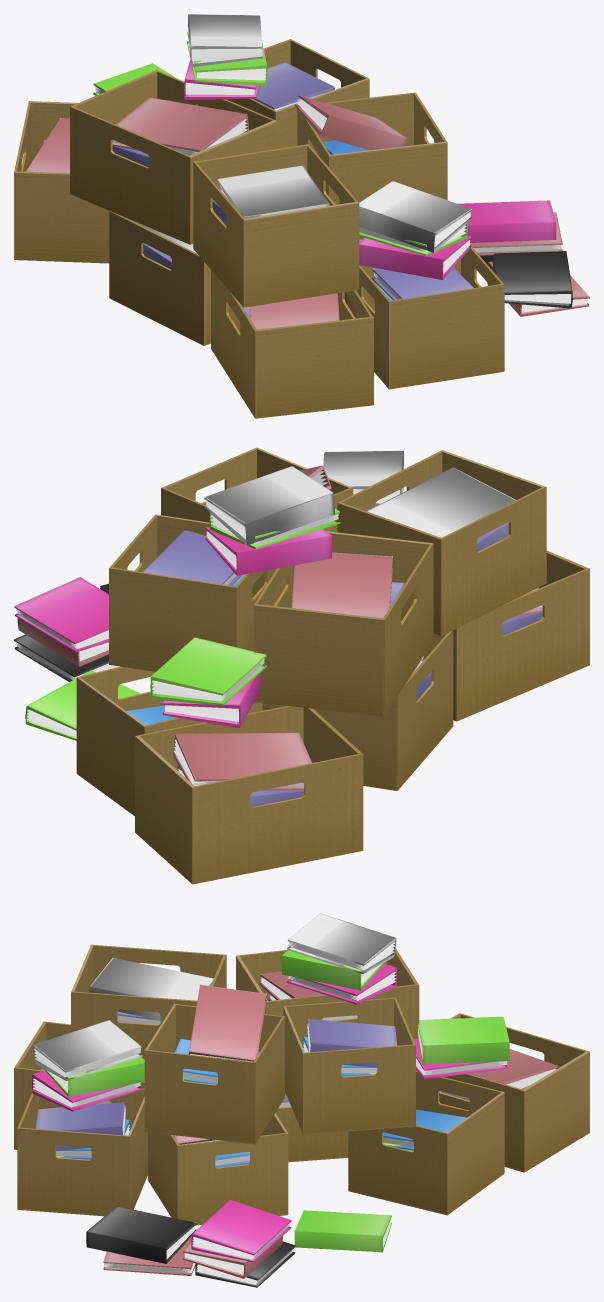
Rendered from Room11Set0.FBX.
The picture shows the model from 3 angles, top to bottom: view 1: azimuth 30°, elevation 25°; view 2: azimuth 150°, elevation 25°; view 3: azimuth 270°, elevation 25°; orthographic projection. The views are drawn at different scales.
Parts seen in each view (by area): view 1: Box565, Box545, Box505, Box524, Box532, Box544, Box525, Box522, Box548, Box564, Box552, Box530 (+14 smaller); view 2: Box532, Box545, Box565, Box564, Box505, Box525, Box543, Box562, Box535, Box548, Box541, Box552 (+11 smaller); view 3: Box543, Box564, Box544, Box524, Box504, Box532, Box565, Box563, Box530, Box562, Box522, Box541 (+20 smaller).
Part boxes in pixels (x1,y1,x2,y2): Box565: [193, 144, 359, 307]; Box545: [70, 70, 277, 244]; Box505: [211, 270, 373, 418]; Box524: [347, 245, 504, 389]; Box532: [14, 101, 109, 263]; Box544: [297, 92, 447, 239]; Box525: [109, 211, 210, 345]; Box522: [359, 181, 472, 252]; Box548: [112, 97, 248, 155]; Box564: [197, 39, 369, 148]; Box552: [217, 165, 329, 218]; Box530: [492, 251, 572, 308]; Box532: [135, 706, 363, 884]; Box545: [253, 531, 433, 716]; Box565: [337, 450, 546, 636]; Box564: [109, 514, 283, 671]; Box505: [453, 550, 589, 721]; Box525: [269, 630, 453, 790]; Box543: [76, 666, 262, 815]; Box562: [204, 466, 334, 545]; Box535: [173, 732, 311, 790]; Box548: [291, 552, 392, 618]; Box541: [150, 637, 266, 705]; Box552: [367, 467, 515, 537]; Box543: [348, 1070, 504, 1215]; Box564: [283, 997, 415, 1134]; Box544: [144, 1003, 284, 1144]; Box524: [17, 1088, 147, 1216]; Box504: [148, 1113, 288, 1225]; Box532: [416, 1013, 589, 1172]; Box565: [71, 944, 226, 1059]; Box563: [189, 984, 266, 1061]; Box530: [86, 1206, 196, 1263]; Box562: [287, 913, 396, 974]; Box522: [33, 1020, 142, 1080]; Box541: [418, 1016, 509, 1064].
Size of the model in its own units: 25.34 by 13.84 by 31.69.
